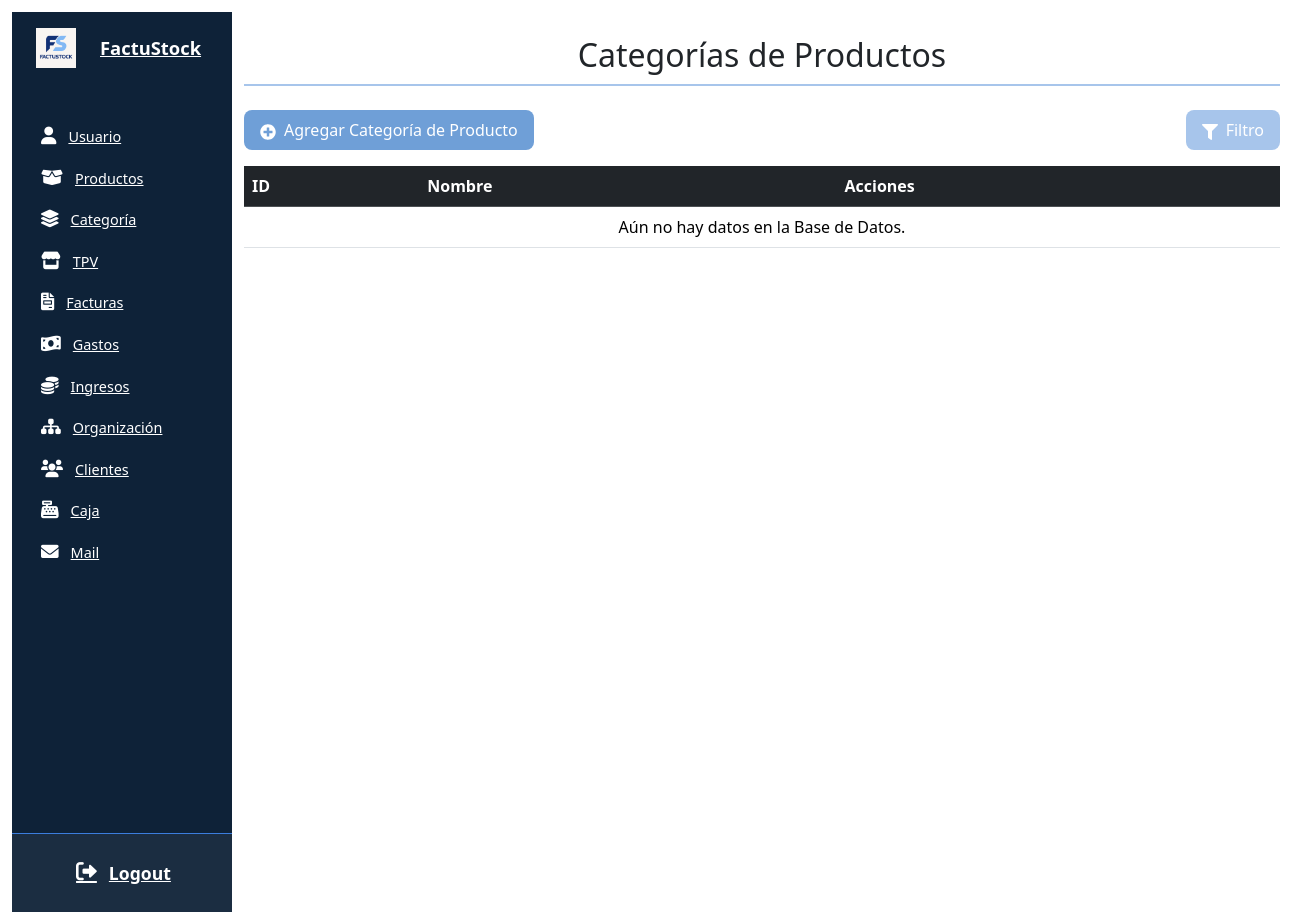
Test: CategoryProducts › abre y cierra el modal correctamente
The image size is (1292, 912).
Click the button "Agregar Categoría de Producto". click: [389, 130]
box: x1=244 y1=110 x2=534 y2=150
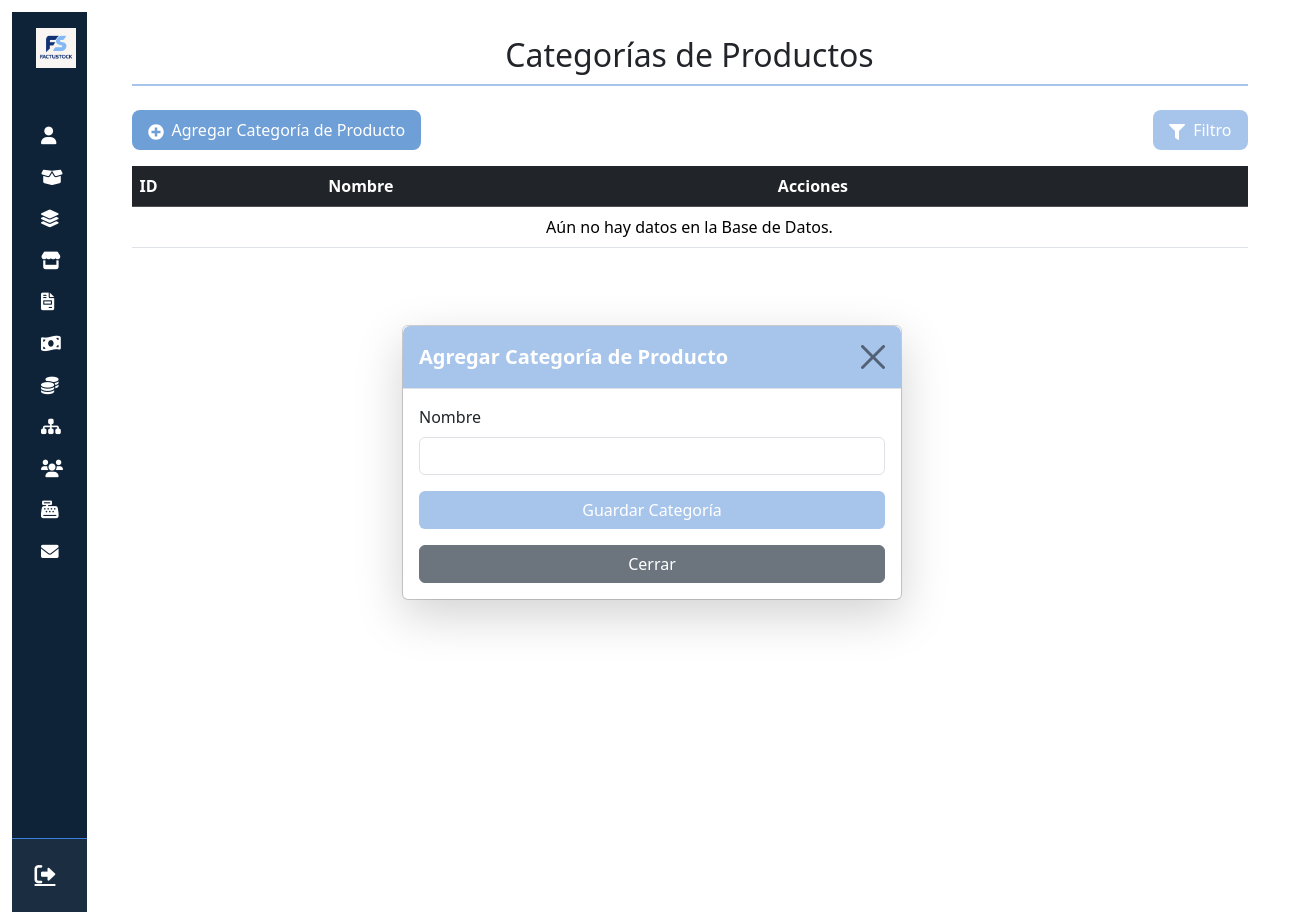
Expected: the button "Guardar Categoría" is shown, x1=419 y1=490 x2=885 y2=528
Click the button "Cerrar". click: [652, 564]
box: x1=419 y1=544 x2=885 y2=582
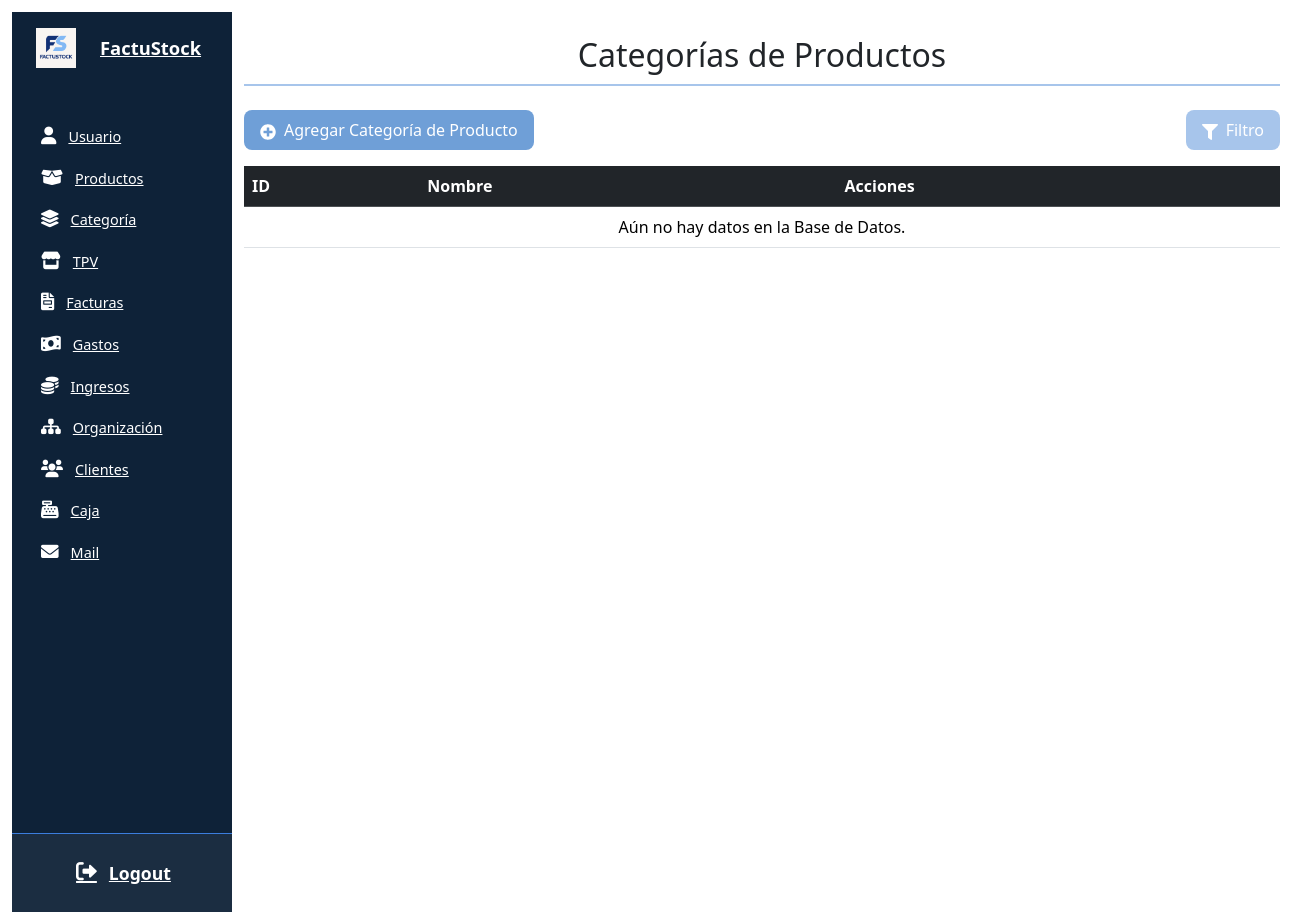
Expected: the button "Guardar Categoría" is gone
